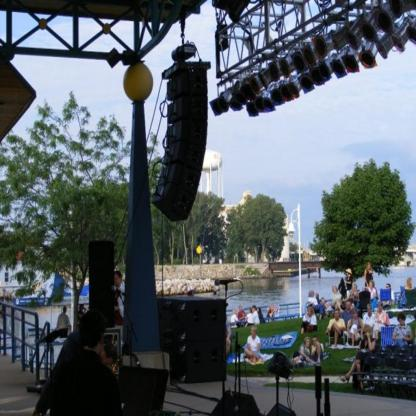face: (102, 359, 114, 367), (114, 275, 121, 287), (364, 331, 369, 339), (400, 319, 405, 326), (313, 339, 318, 346), (307, 340, 311, 348), (336, 312, 340, 319), (347, 303, 351, 310), (309, 310, 313, 317), (252, 330, 256, 337), (378, 307, 382, 313), (368, 307, 371, 314), (354, 313, 358, 318), (387, 285, 390, 291), (370, 283, 373, 289), (333, 288, 336, 294), (271, 306, 274, 312), (355, 290, 358, 296), (322, 300, 326, 304), (368, 266, 371, 271), (354, 286, 357, 291), (241, 307, 243, 311)
